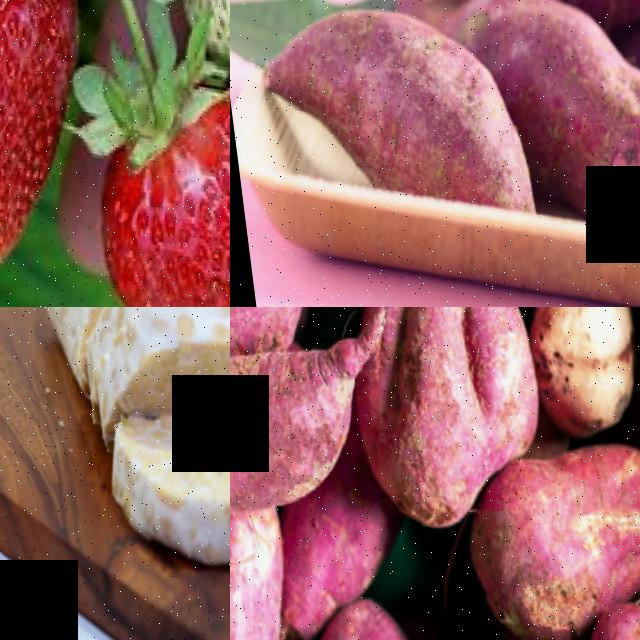strawberry: (42, 70, 230, 307), (0, 0, 118, 296)
sweet potato: (230, 0, 555, 222), (302, 307, 580, 543), (432, 421, 640, 640), (230, 307, 388, 552), (496, 0, 640, 236), (272, 578, 425, 640)
tempeh: (77, 373, 230, 599), (72, 307, 230, 459)
